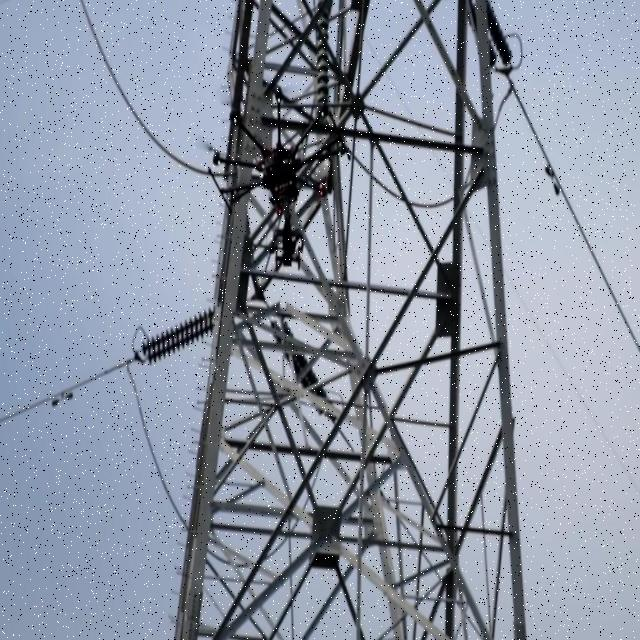UAV: (208, 86, 346, 270)
